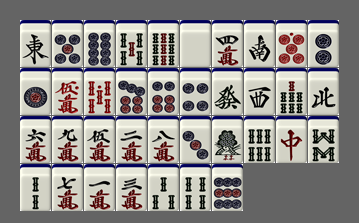0m: (52, 68, 83, 115)
0p: (276, 20, 307, 67)
0s: (84, 68, 115, 115)
1m: (84, 164, 115, 211)
1p: (20, 68, 51, 115)
1s: (212, 116, 243, 163)
1z: (20, 20, 51, 67)
2m: (116, 116, 147, 163)
2p: (308, 20, 339, 67)
2s: (20, 164, 51, 211)
2z: (244, 20, 275, 67)
3m: (116, 164, 147, 211)
3p: (180, 116, 211, 163)
3s: (148, 164, 179, 211)
3z: (244, 68, 275, 115)
4m: (212, 20, 243, 67)
4p: (180, 68, 211, 115)
4s: (180, 164, 211, 211)
4z: (308, 68, 339, 115)
5m: (84, 116, 115, 163)
5p: (52, 20, 83, 67)
5s: (116, 20, 147, 67)
5z: (180, 20, 211, 67)
6m: (20, 116, 51, 163)
6p: (148, 68, 179, 115)
6s: (244, 116, 275, 163)
6z: (212, 68, 243, 115)
7m: (52, 164, 83, 211)
7p: (116, 68, 147, 115)
7s: (276, 68, 307, 115)
7z: (276, 116, 307, 163)
8m: (148, 116, 179, 163)
8p: (84, 20, 115, 67)
8s: (308, 116, 339, 163)
9m: (52, 116, 83, 163)
9p: (212, 164, 243, 211)
9s: (148, 20, 179, 67)
